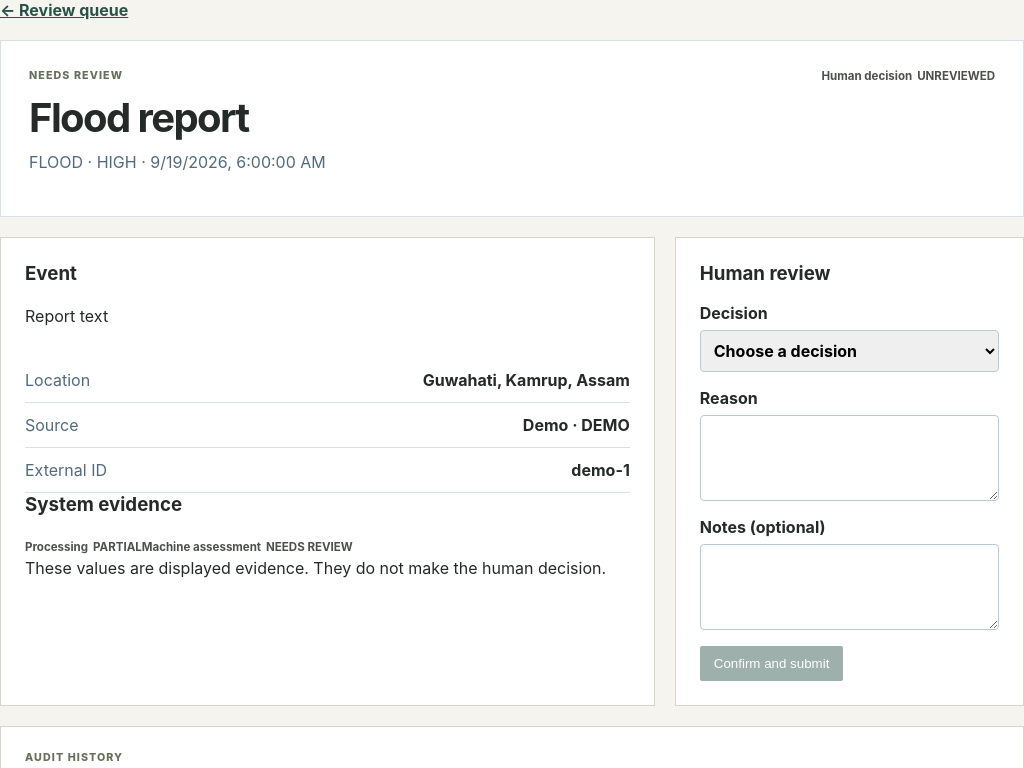
review workspace requires a reason and updates after success
Expected: the heading "Flood report" is shown, [29, 93, 248, 142]
Expected: the button "Confirm and submit" is disabled, [700, 646, 843, 681]
Step 1. Select "Verify" in the dropdown named "Review action" → (849, 351), box [700, 330, 999, 372]
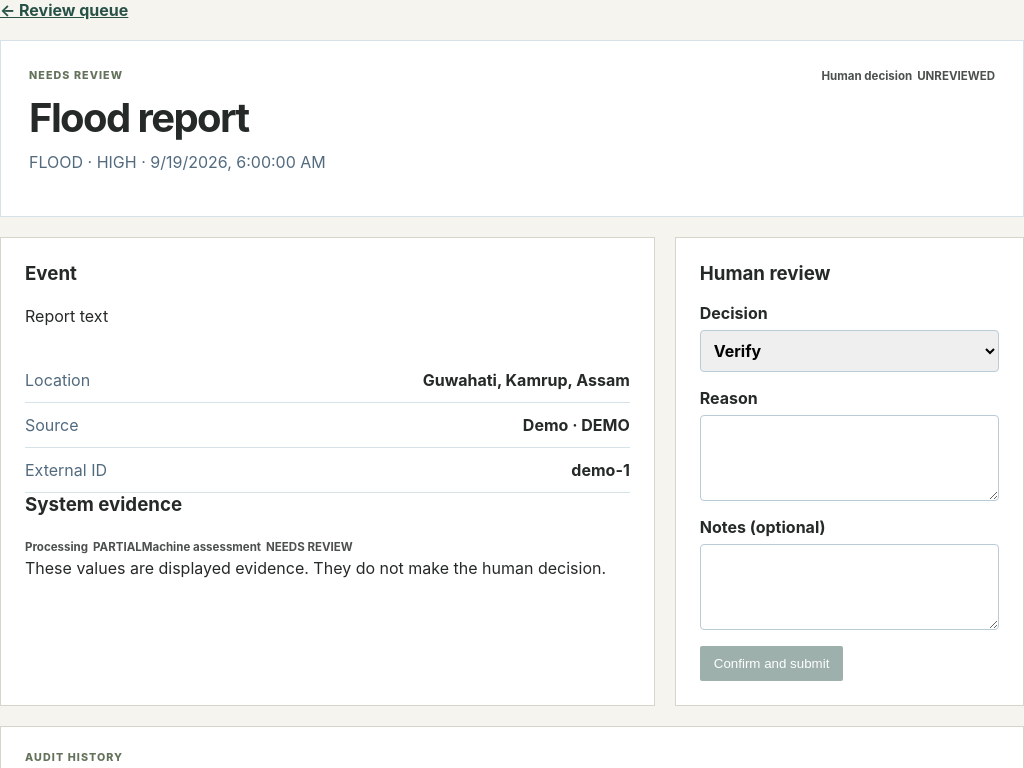
Step 2. Type "Reviewed evidence" into the text box named "Review reason" → (849, 458), box [700, 415, 999, 501]
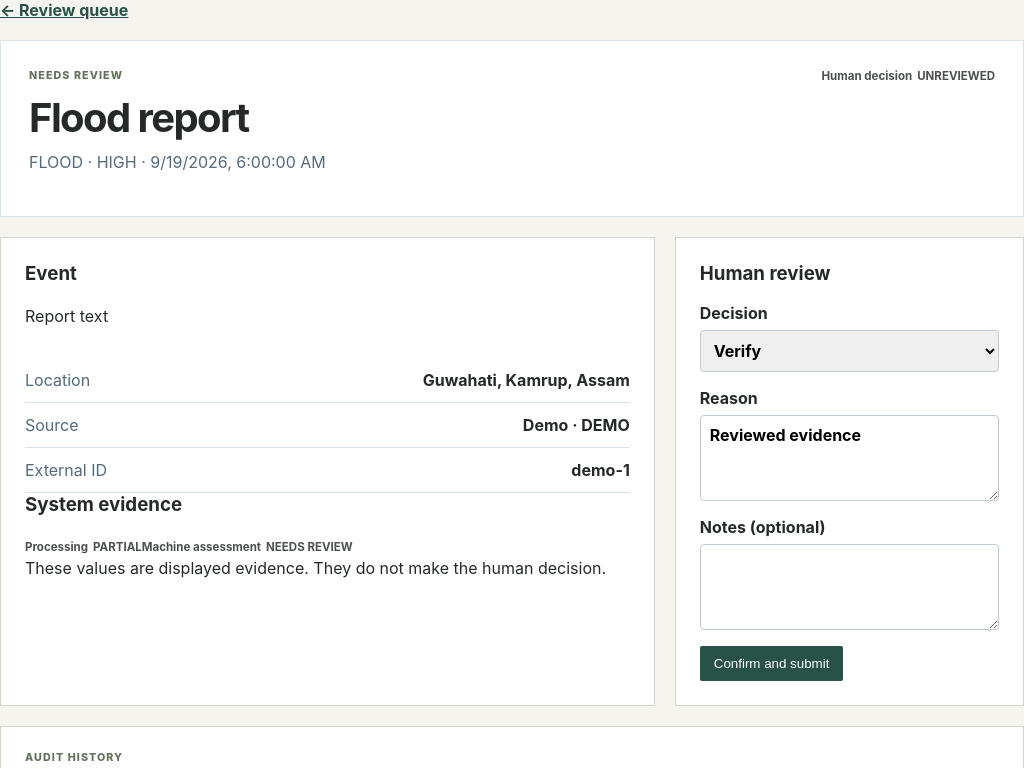
Step 3. Click the button "Confirm and submit" → (772, 664), box [700, 646, 843, 681]
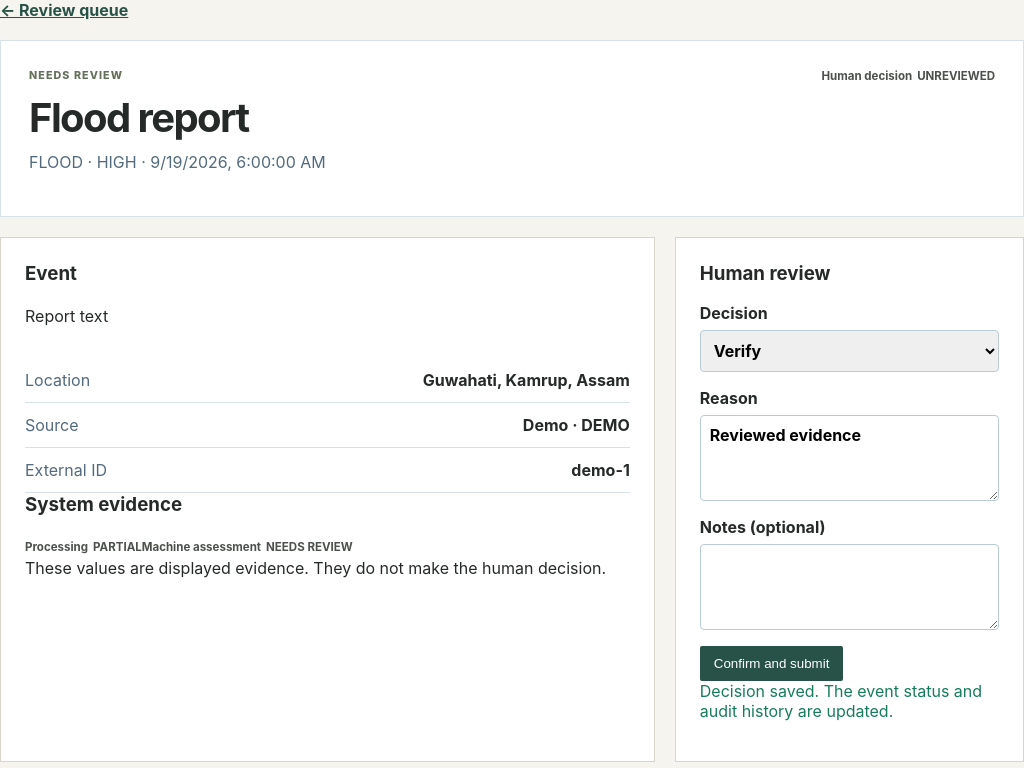
Result: the text "Decision saved. The event status and audit history are updated." is shown at [700, 681, 999, 721]
